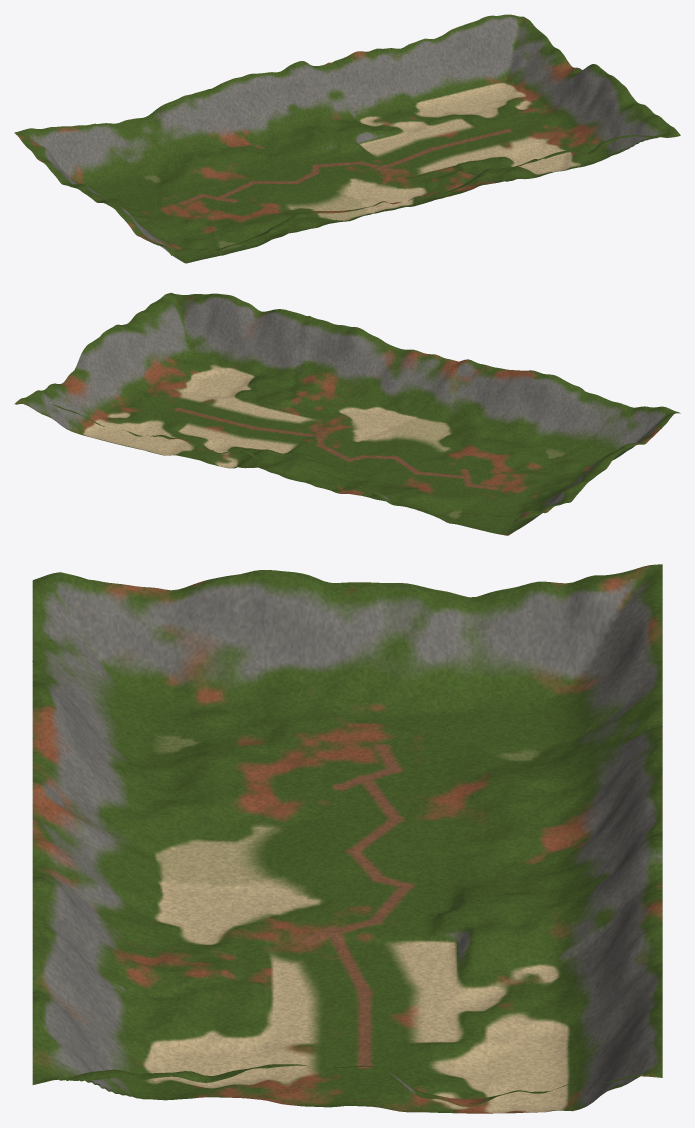
File: SM_Art_Terrain_L_ThePrisonCourse.gltf
The picture shows the model from 3 angles, top to bottom: view 1: azimuth 30°, elevation 25°; view 2: azimuth 150°, elevation 25°; view 3: azimuth 270°, elevation 25°; orthographic projection. The views are drawn at different scales.
Visible parts, largest first — view 1: SM_Art_Terrain_L_ThePrisonCourse; view 2: SM_Art_Terrain_L_ThePrisonCourse; view 3: SM_Art_Terrain_L_ThePrisonCourse.
Part boxes in pixels (bbox=[...]): SM_Art_Terrain_L_ThePrisonCourse: bbox=[14, 14, 680, 263]; SM_Art_Terrain_L_ThePrisonCourse: bbox=[14, 292, 680, 535]; SM_Art_Terrain_L_ThePrisonCourse: bbox=[32, 564, 662, 1113].
Size of the model in its own units: 341 by 32.14 by 183.
Materials: 2 (2 with a texture image).
